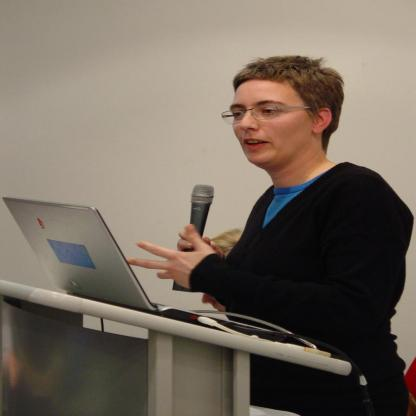board: (4, 196, 279, 340)
